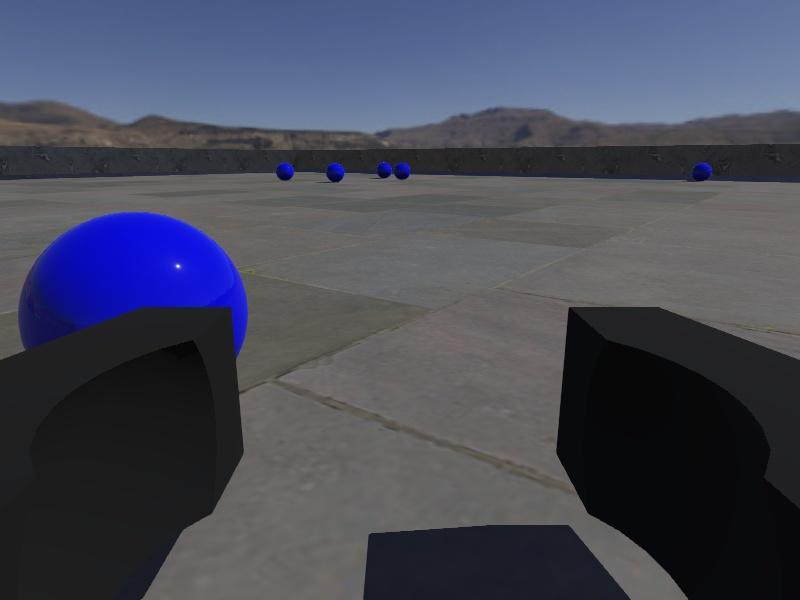blue ball: (691, 162, 713, 182), (325, 162, 345, 183), (276, 161, 295, 179), (394, 162, 412, 179), (375, 162, 392, 178)
